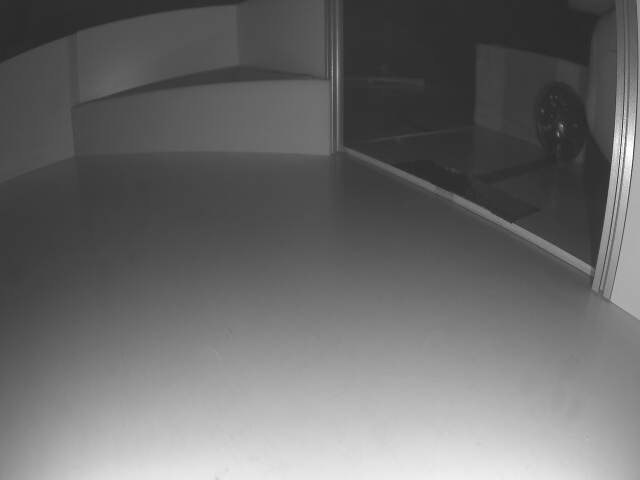Point: (72, 81, 331, 158)
